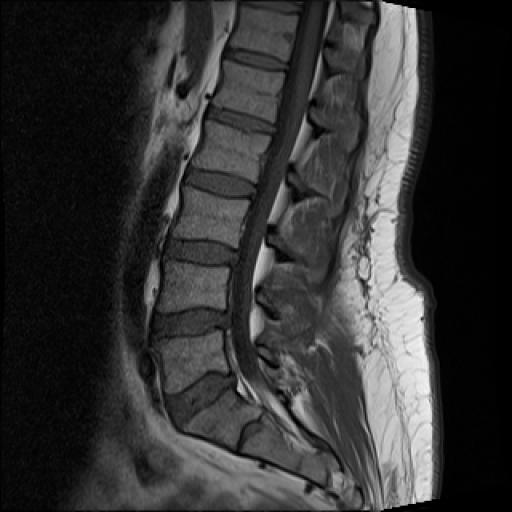L1: (213, 60, 285, 122)
L2: (192, 120, 270, 182)
L3: (172, 186, 249, 248)
L4: (156, 260, 230, 312)
L5: (156, 330, 229, 392)
S1: (183, 388, 262, 450)
